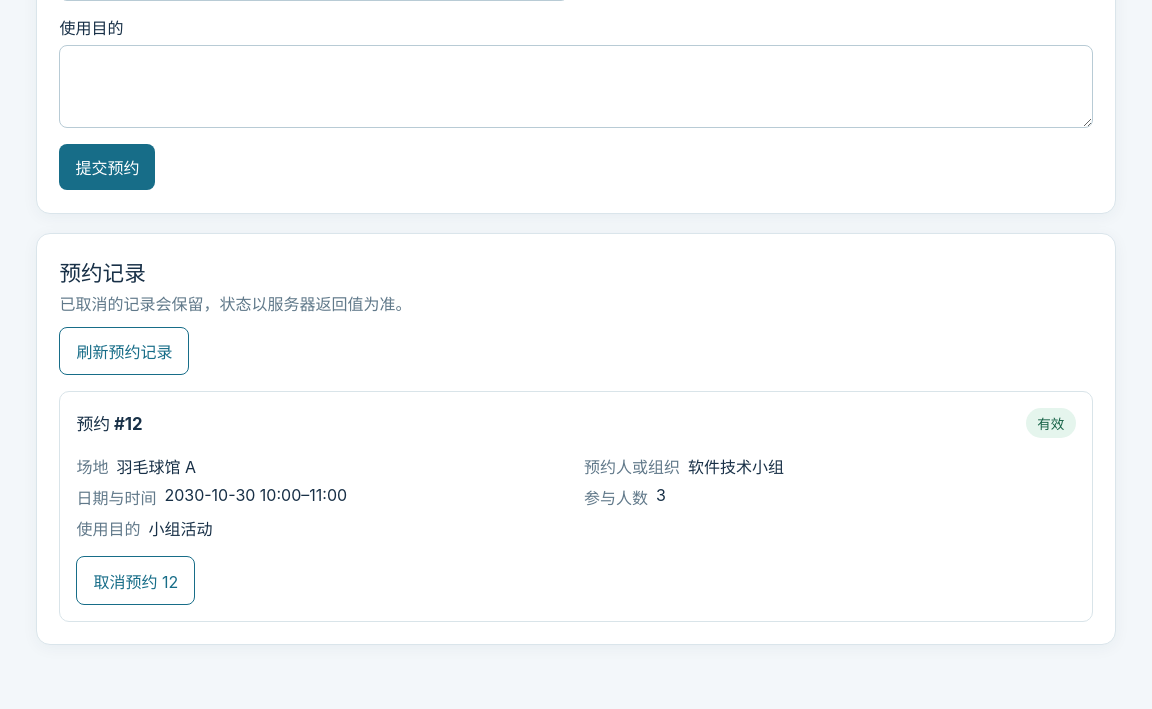
Test: 场地预约页面 › 取消预约后显示服务端确认的状态
(page scrolled)
Expected: the text "软件技术小组" is shown, [688, 454, 784, 478]
What coordinates should you click on to do the following:
click the button "取消预约 12"
I would click on:
 (136, 581)
Its box is [76, 556, 195, 605].
(page scrolled)
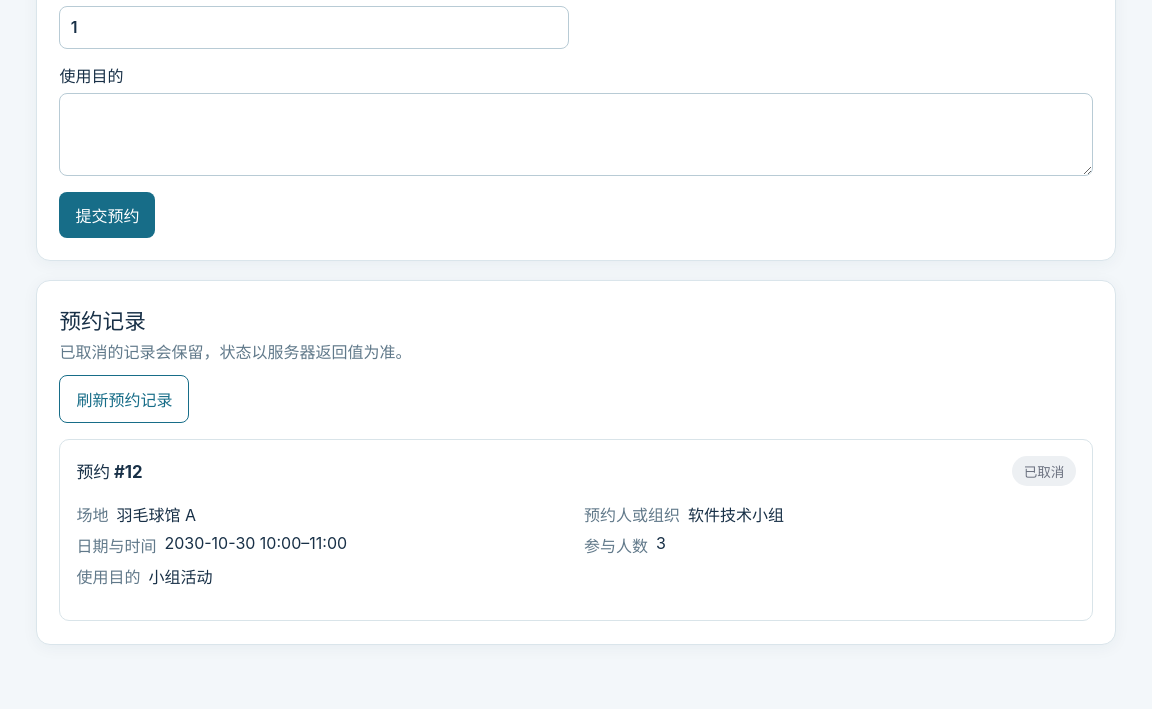
Result: the text "已取消" is shown at [1012, 456, 1076, 486]
